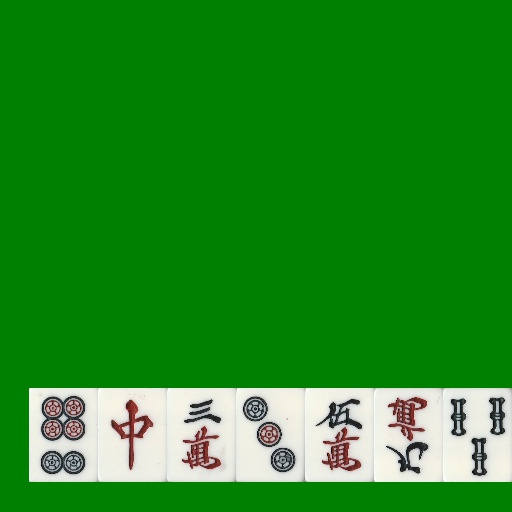3m: (167, 388, 236, 482)
3p: (236, 388, 305, 482)
3s: (443, 388, 512, 482)
5m: (305, 388, 374, 482)
6p: (29, 388, 98, 482)
9m: (374, 388, 443, 482)
tyun: (98, 388, 167, 482)
